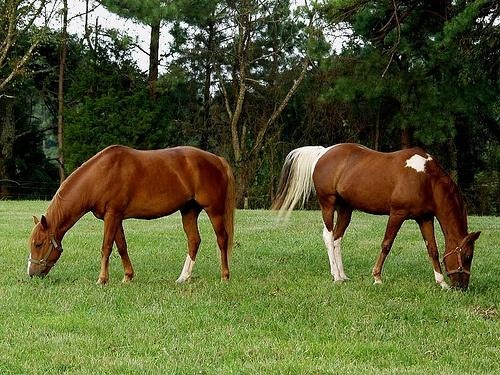horse: (272, 143, 482, 294), (28, 146, 236, 287)
